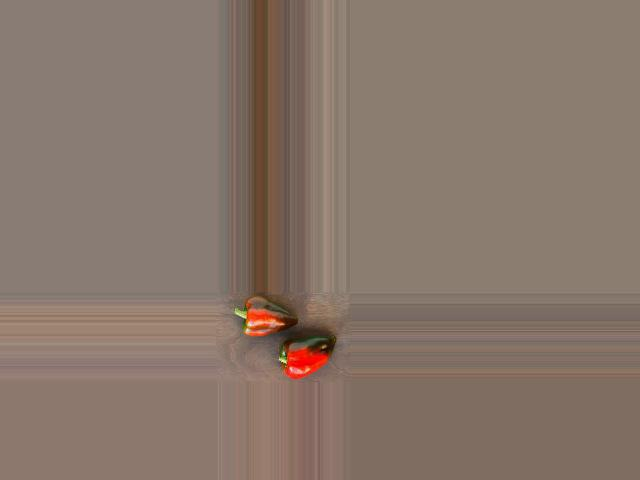bell_pepper: (257, 332, 339, 380)
